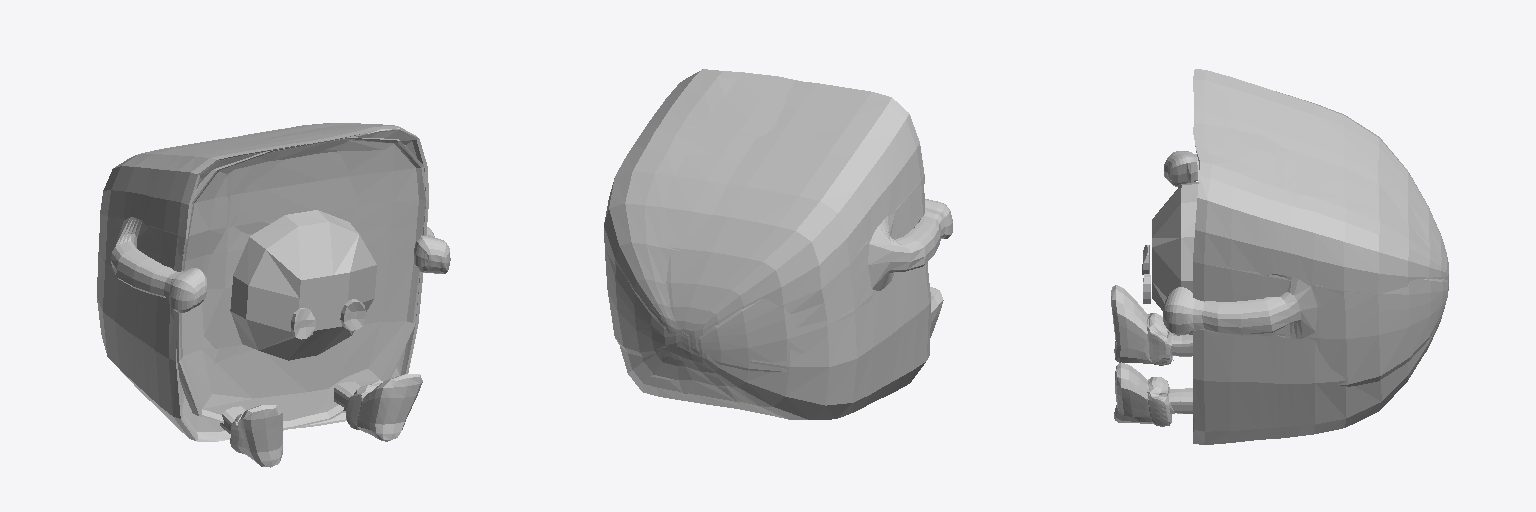
The model's file is Pal_000019.obj.
The picture shows the model from 3 angles: view 1: azimuth 30°, elevation 25°; view 2: azimuth 150°, elevation 25°; view 3: azimuth 270°, elevation 25°; orthographic projection.
Visible parts, largest first — view 1: Cuerpo_de_aguacate_3.001_Cube.002, Hueso_Cubo.003, Ojos_Cubo.002; view 2: Cuerpo_de_aguacate_3.001_Cube.002; view 3: Cuerpo_de_aguacate_3.001_Cube.002, Hueso_Cubo.003.
Part boxes in pixels (x1,y1,x2,y2): Cuerpo_de_aguacate_3.001_Cube.002: (97,123,450,467); Hueso_Cubo.003: (230,210,376,360); Ojos_Cubo.002: (291,299,365,339); Cuerpo_de_aguacate_3.001_Cube.002: (604,69,952,419); Cuerpo_de_aguacate_3.001_Cube.002: (1111,69,1448,444); Hueso_Cubo.003: (1152,182,1198,334).
Size of the model in its own units: 1.02 by 0.9679 by 1.01.